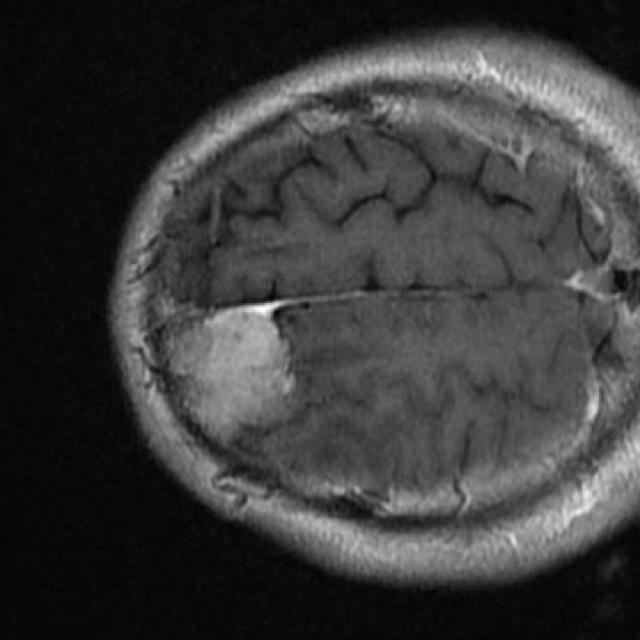meningioma: (164, 308, 289, 442)
